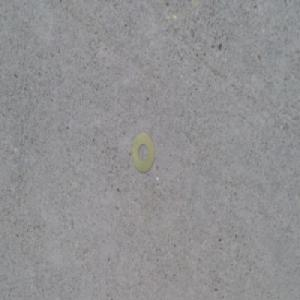Washer: (132, 131, 155, 176)
